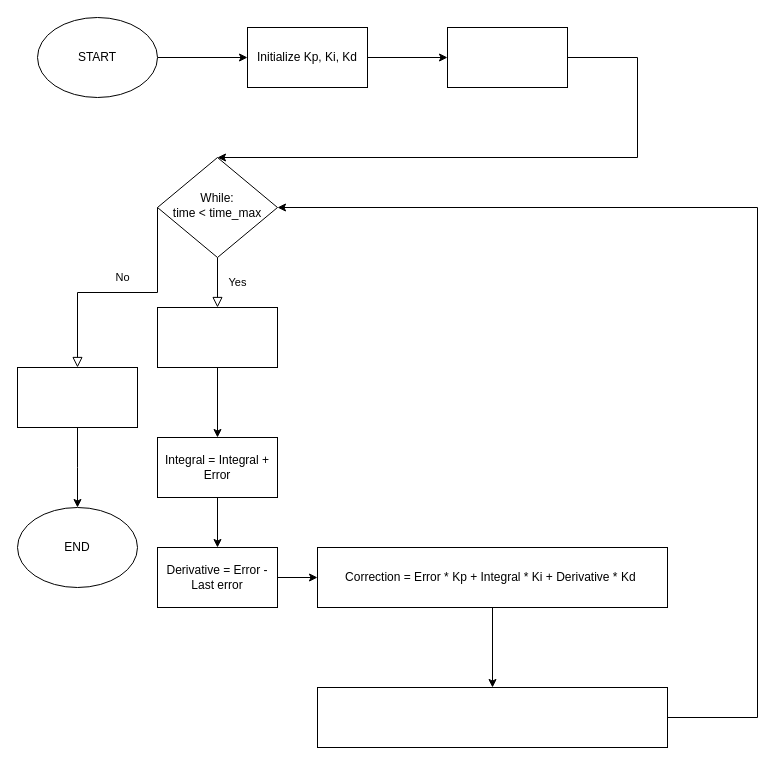
This 783x765 diagram has some shape labels left out. The centre of each missing label's shape, as x and y in pixels:
"Error = gyro angle * (-1)" belongs at [217,337].
"Integral = 0; Last error = 0" belongs at [507,57].
"Steer motor pair with Direction = Correction, Speed = 15" belongs at [492,717].
"STOP motor" belongs at [77,397].
